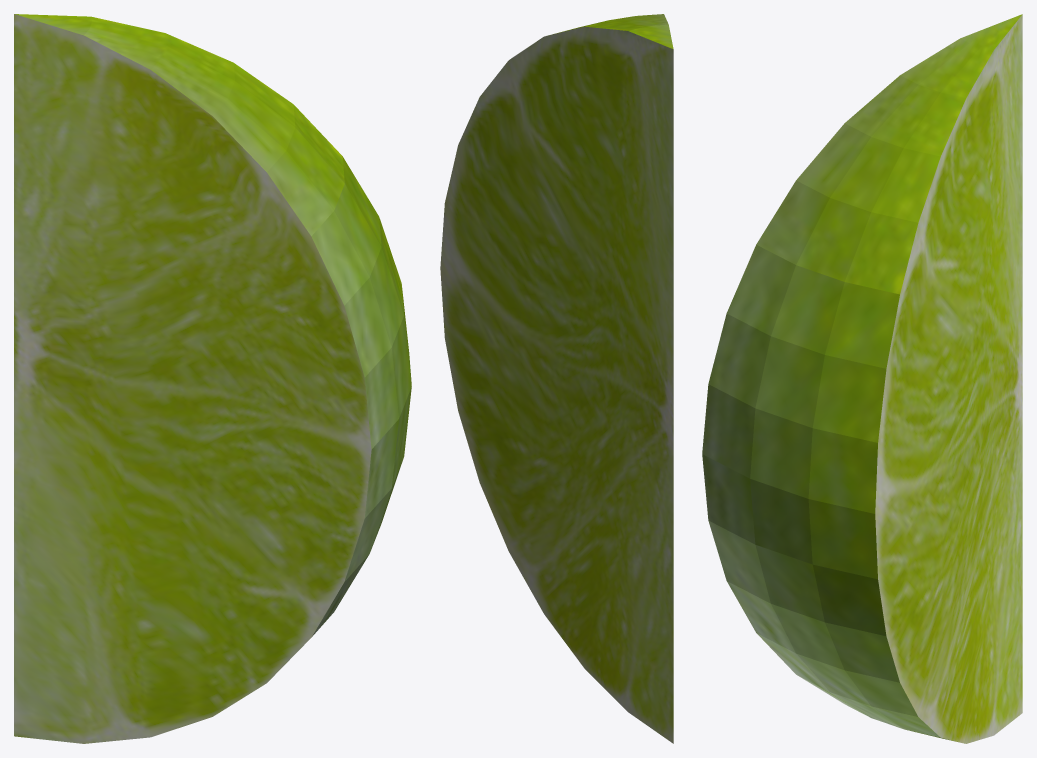
Rendered from lime.fbx.
The picture shows the model from 3 angles, left to right: view 1: azimuth 30°, elevation 25°; view 2: azimuth 150°, elevation 25°; view 3: azimuth 270°, elevation 25°; orthographic projection. The views are drawn at different scales.
Visible parts, largest first — view 1: Sphere; view 2: Sphere; view 3: Sphere.
Part boxes in pixels (bbox=[...]): Sphere: bbox=[14, 14, 411, 743]; Sphere: bbox=[440, 14, 673, 743]; Sphere: bbox=[702, 14, 1022, 743].
Size of the model in its own units: 92.39 by 200 by 83.15.
Materials: 1 (1 with a texture image).
